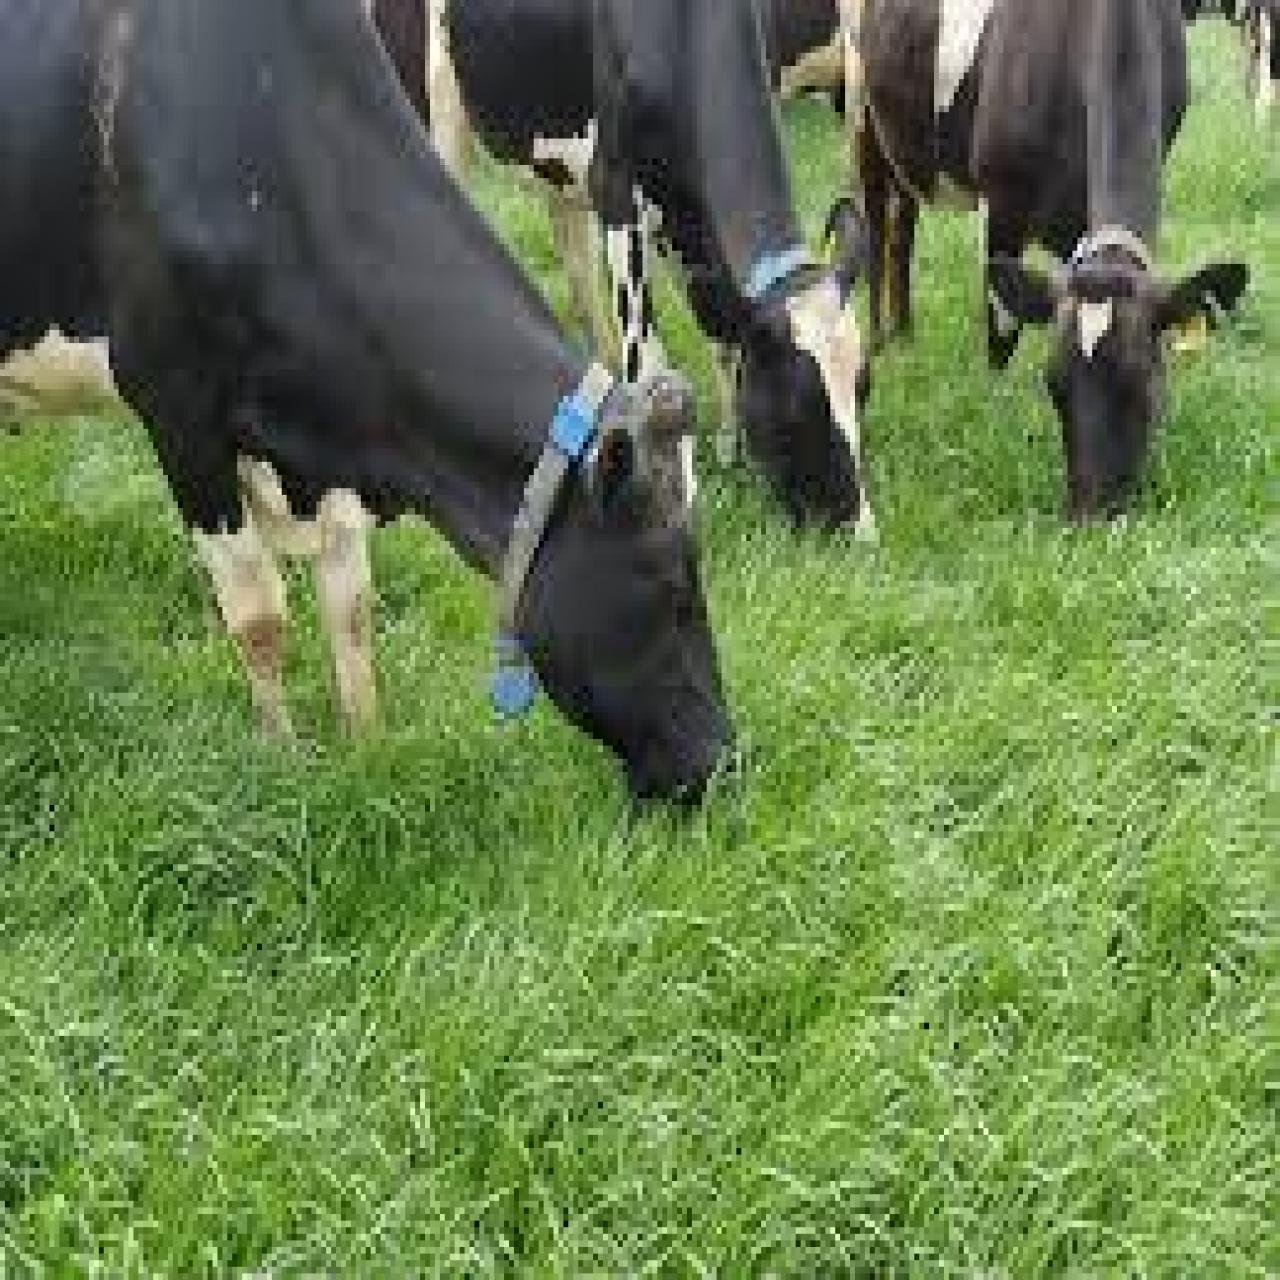cow: (0, 0, 741, 831), (444, 0, 885, 561), (847, 0, 1253, 520)
